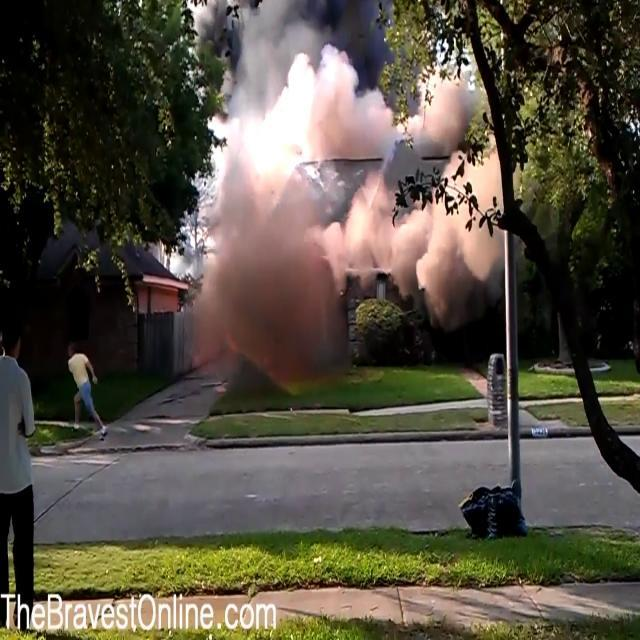Smoke: (174, 1, 392, 392), (393, 126, 507, 350)
